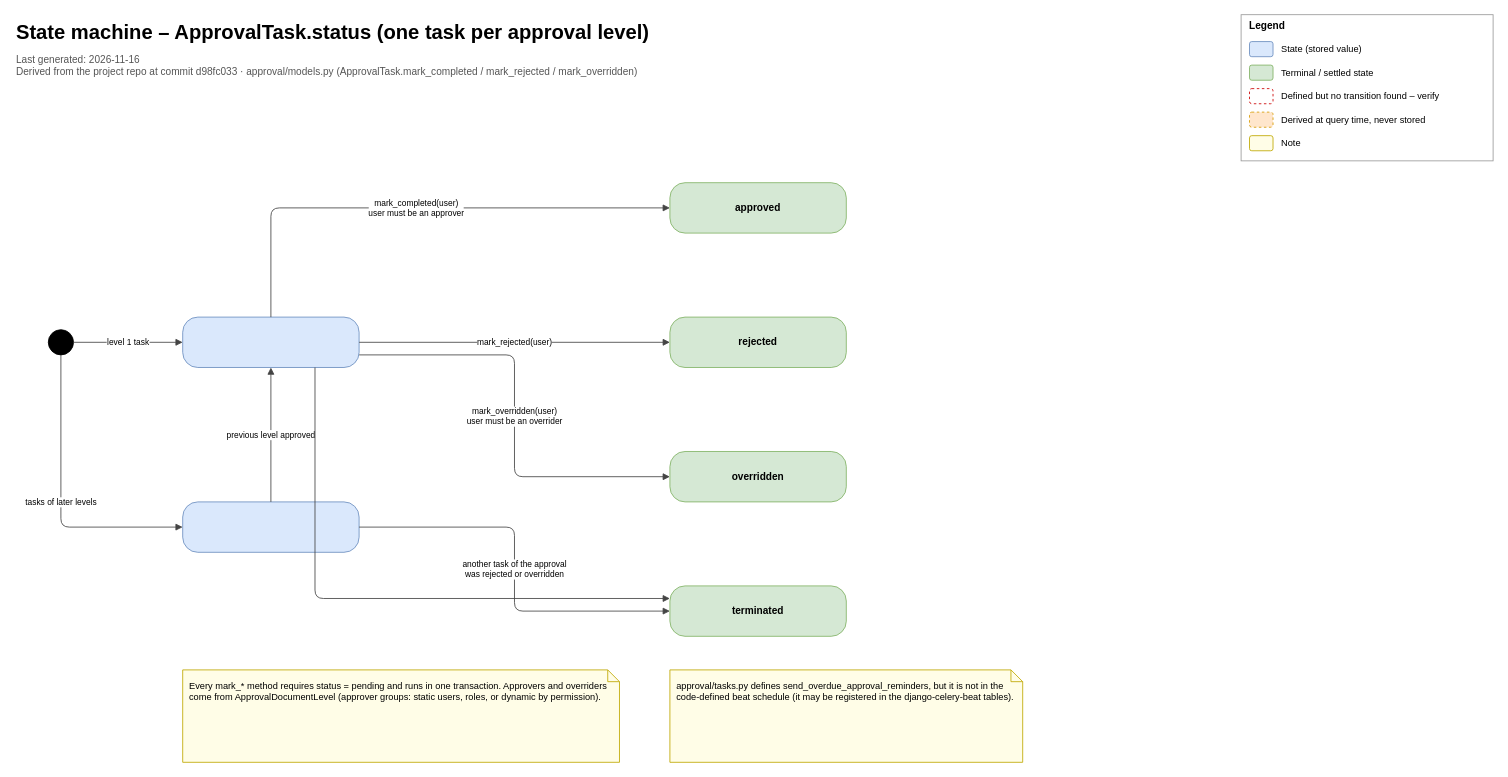
Some shapes in this 1508 by 777 pixel diagram are drawn without their labels. The centre of each missing label's shape, as x and y in pixels:
"not_started" goes at point (270, 526).
"pending" goes at point (270, 342).
